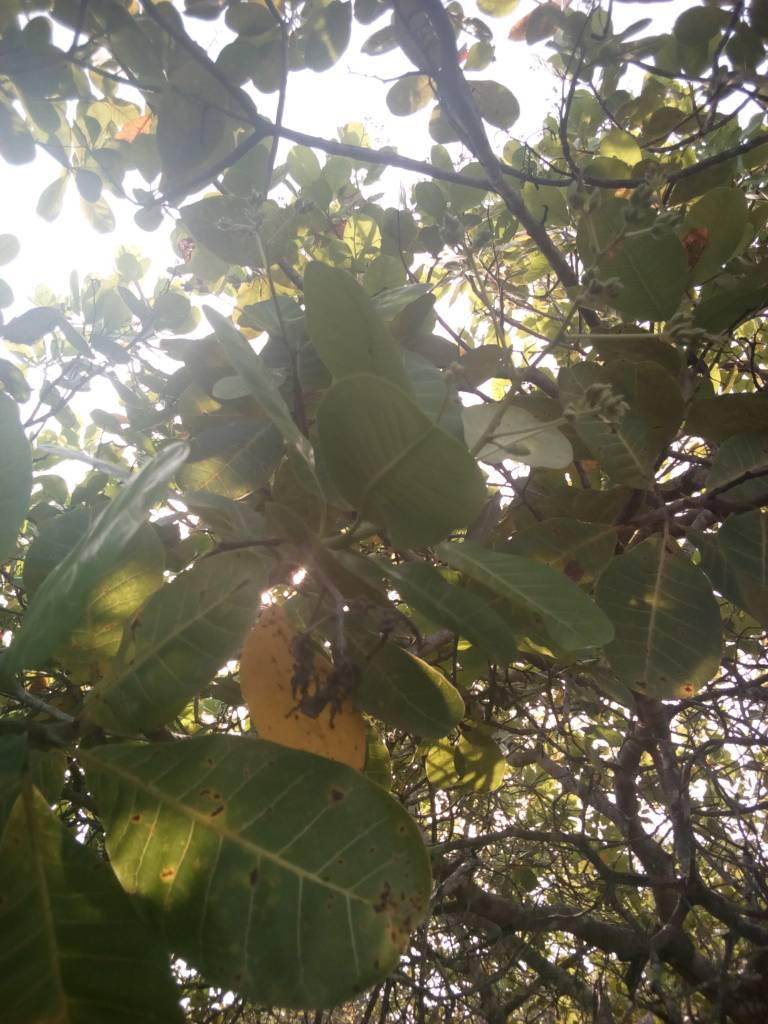Dessèchement des bourgeons: (290, 572, 375, 719)
